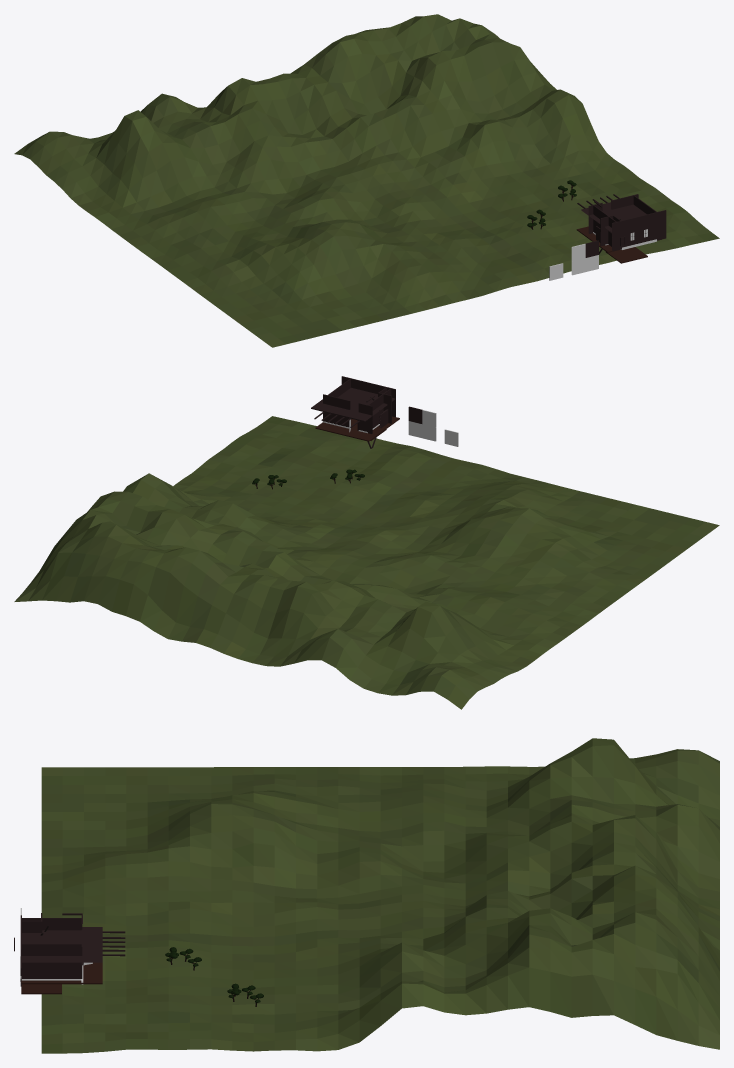
The model's file is house.dae.
3 renders of one model, top to bottom at view 1: azimuth 30°, elevation 25°; view 2: azimuth 150°, elevation 25°; view 3: azimuth 270°, elevation 25°, orthographic. The views are drawn at different scales.
Parts seen in each view (by area): view 1: Terrain_x0y0, Terrain_x1y0, Terrain_x1y1, Terrain_x0y1; view 2: Terrain_x0y0, Terrain_x1y0, Terrain_x1y1, Terrain_x0y1; view 3: Terrain_x0y0, Terrain_x1y1, Terrain_x0y1, Terrain_x1y0.
Boxes of the visible parts, x1,y1,x2,y2 form: Terrain_x0y0: (270, 14, 590, 189); Terrain_x1y0: (14, 78, 366, 252); Terrain_x1y1: (143, 190, 495, 347); Terrain_x0y1: (367, 114, 719, 291); Terrain_x0y0: (14, 473, 366, 658); Terrain_x1y0: (238, 557, 590, 709); Terrain_x1y1: (367, 469, 719, 619); Terrain_x0y1: (171, 416, 495, 556); Terrain_x0y0: (380, 842, 719, 1049); Terrain_x1y1: (41, 767, 380, 908); Terrain_x0y1: (41, 899, 380, 1053); Terrain_x1y0: (380, 738, 719, 909).
Size of the model in its own units: 100 by 19.1 by 104.
